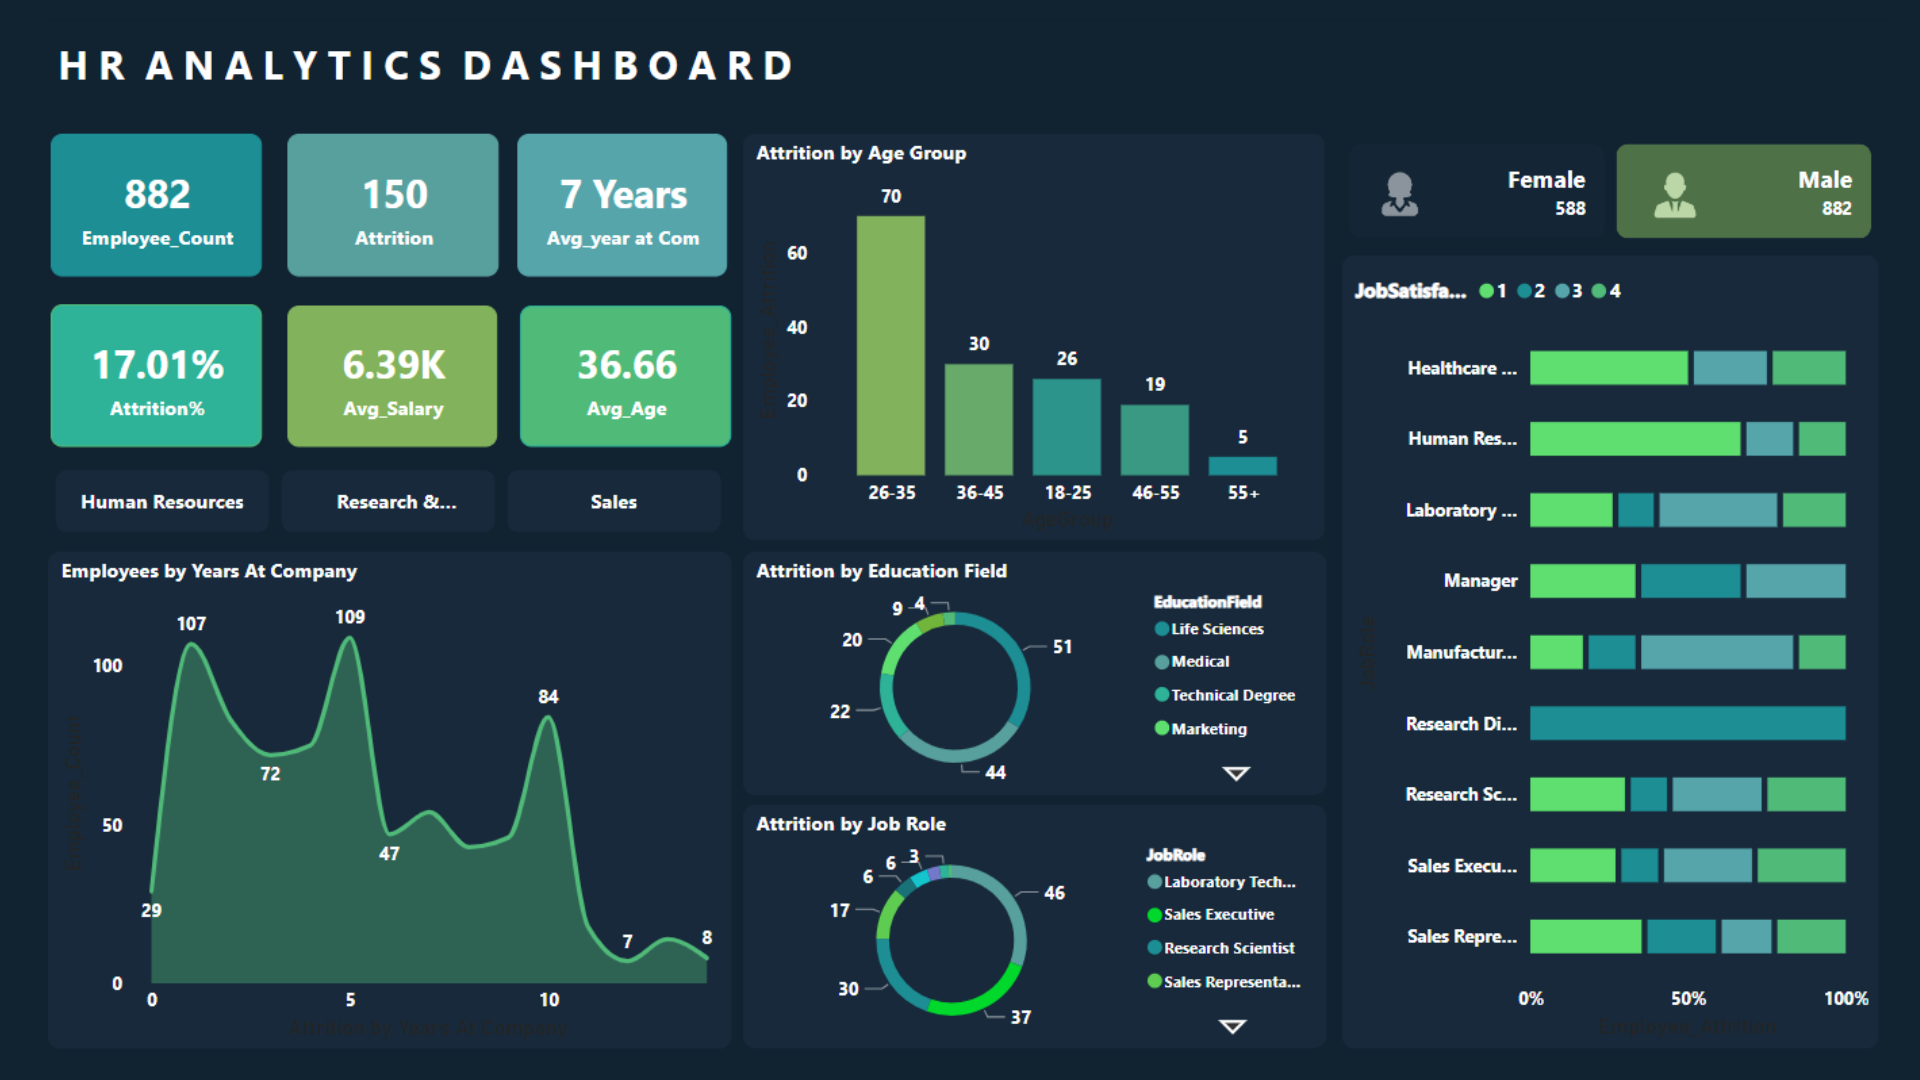

What the dashboard file says about the page in this screenshot:
{"tool":"powerbi","page":{"name":"Page 1","canvas":[1280,720],"ordinal":0},"visuals":[{"type":"image","box":[1106.4,97.5,40.8,50.1],"z":0},{"type":"image","box":[918,101.2,39.9,42.7],"z":1000},{"type":"card","fields":{"Values":["New Measures.Employee_Attrition"]},"box":[174.6,80.8,144.7,97.8],"z":2000},{"type":"card","fields":{"Values":["New Measures.Employee_Count"]},"box":[12,80.8,144.7,97.8],"z":3000},{"type":"card","fields":{"Values":["New Measures.Years_With_Text"]},"box":[333.2,80.8,145.7,97.5],"z":4000},{"type":"card","fields":{"Values":["New Measures.Attrition%"]},"box":[12,197.5,144.7,97.8],"z":5000},{"type":"card","fields":{"Values":["New Measures.Avg_Salary"]},"box":[174.6,198.5,143.7,96.8],"z":6000},{"type":"card","fields":{"Values":["New Measures.Avg_Age"]},"box":[334.2,198.5,144.7,96.8],"z":7000},{"type":"areaChart","title":"Employees by Years At Company","fields":{"Y":["New Measures.Employee_Count"],"Category":["HR_Analytics.YearsAtCompany"]},"box":[9.9,367.2,469.3,341.2],"z":8000},{"type":"donutChart","title":"Attrition by Education Field","fields":{"Y":["New Measures.Employee_Attrition"],"Category":["HR_Analytics.EducationField"]},"box":[487.3,367.6,400.1,167.1],"z":9000},{"type":"clusteredColumnChart","title":"Attrition by Age Group","fields":{"Category":["HR_Analytics.AgeGroup"],"Y":["New Measures.Employee_Attrition"]},"box":[487.3,80.8,399.1,279.4],"z":10000},{"type":"hundredPercentStackedBarChart","fields":{"Y":["New Measures.Employee_Attrition"],"Series":["HR_Analytics.JobSatisfaction"],"Category":["HR_Analytics.JobRole"]},"box":[898.5,164.3,368.5,543.9],"z":11000},{"type":"advancedSlicerVisual","fields":{"Values":["HR_Analytics.Gender"]},"box":[898.5,82.6,368.5,75.2],"z":12000},{"type":"advancedSlicerVisual","fields":{"Values":["HR_Analytics.Department"]},"box":[9.9,306.3,469.3,53.7],"z":13000},{"type":"textbox","box":[12.1,9.3,527.2,61.3],"z":14000},{"type":"donutChart","title":"Attrition by Job Role","fields":{"Y":["New Measures.Employee_Attrition"],"Category":["HR_Analytics.JobRole"]},"box":[487.3,541.1,400.1,167.1],"z":15000}]}

Visuals, with their boxes in screenshot pixels (x1, y1, x2, y2), scaled from the page's 1280x720 canvas onto the 1920x1080 screenshot:
image: <region>1660, 146, 1721, 221</region>
image: <region>1377, 152, 1437, 216</region>
card - New Measures.Employee_Attrition: <region>262, 121, 479, 268</region>
card - New Measures.Employee_Count: <region>18, 121, 235, 268</region>
card - New Measures.Years_With_Text: <region>500, 121, 718, 267</region>
card - New Measures.Attrition%: <region>18, 296, 235, 443</region>
card - New Measures.Avg_Salary: <region>262, 298, 477, 443</region>
card - New Measures.Avg_Age: <region>501, 298, 718, 443</region>
"Employees by Years At Company" areaChart: <region>15, 551, 719, 1063</region>
"Attrition by Education Field" donutChart: <region>731, 551, 1331, 802</region>
"Attrition by Age Group" clusteredColumnChart: <region>731, 121, 1330, 540</region>
hundredPercentStackedBarChart - New Measures.Employee_Attrition x HR_Analytics.JobSatisfaction: <region>1348, 246, 1900, 1062</region>
advancedSlicerVisual - HR_Analytics.Gender: <region>1348, 124, 1900, 237</region>
advancedSlicerVisual - HR_Analytics.Department: <region>15, 459, 719, 540</region>
textbox: <region>18, 14, 809, 106</region>
"Attrition by Job Role" donutChart: <region>731, 812, 1331, 1062</region>
